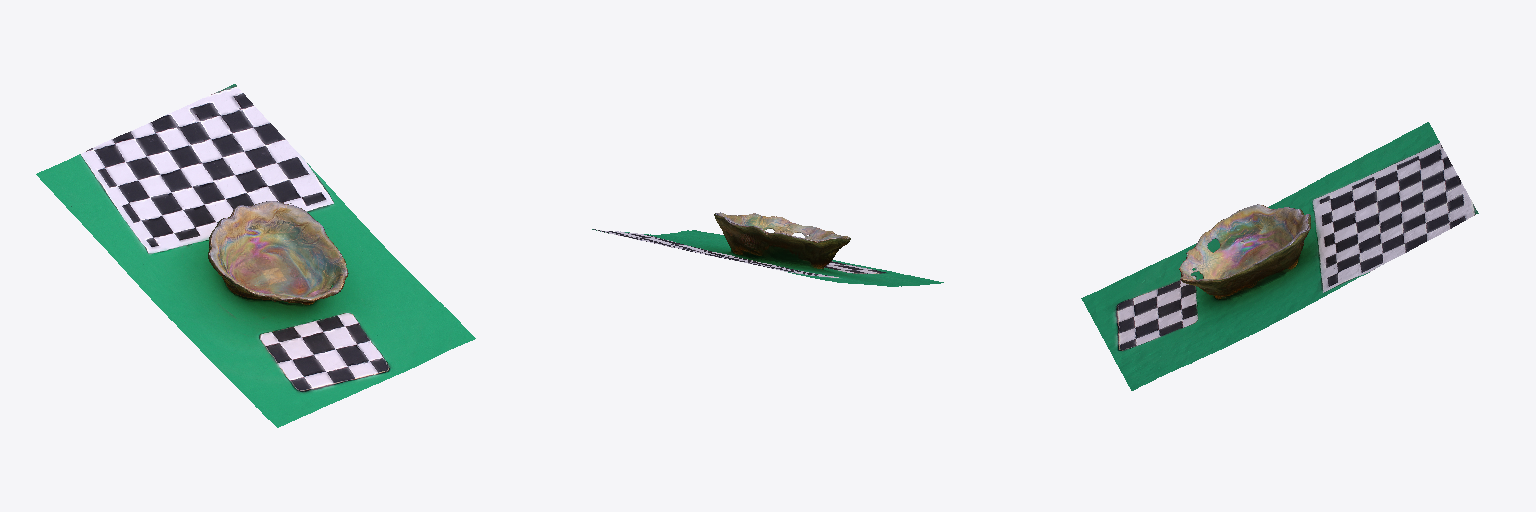
The picture shows the model from 3 angles: view 1: azimuth 30°, elevation 25°; view 2: azimuth 150°, elevation 25°; view 3: azimuth 270°, elevation 25°; orthographic projection.
Size of the model in its own units: 4.46 by 2.34 by 5.25.
Materials: 1 (1 with a texture image).